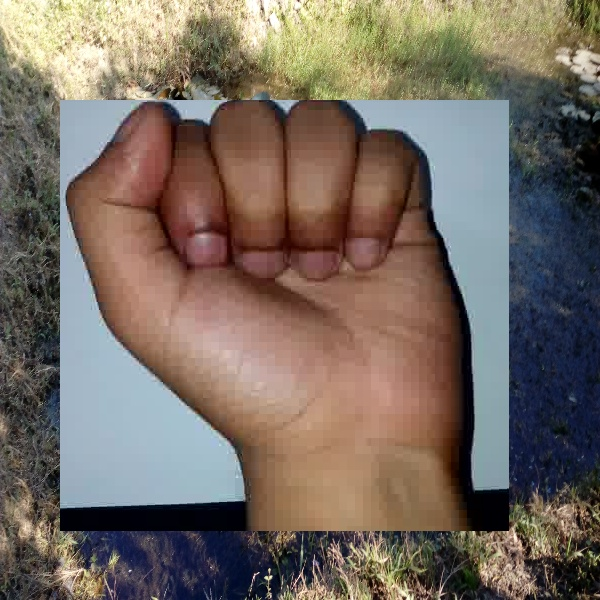A: (60, 100, 509, 531)
